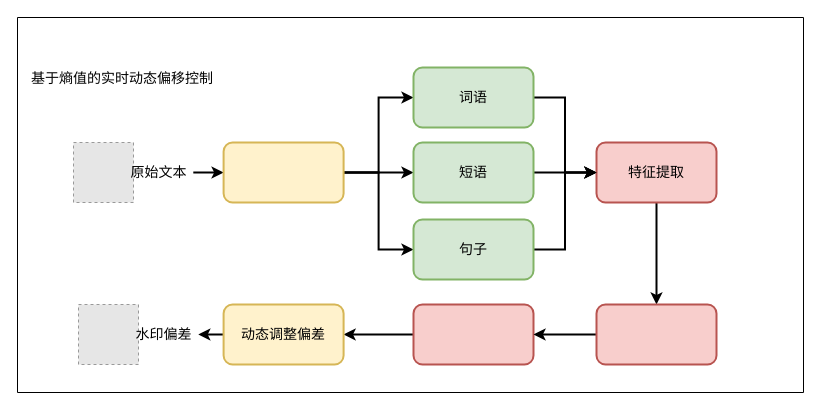
Image size: 821x410. Some labels were removed from this diagram. Grey dashed boxes stand in for pictures. The shapes that lost their labels are listed below. From the top down, each one's box as (x1, y1, x2, y2) in pixels, then its label:
(222, 141, 344, 203): 文本预处理
(412, 303, 534, 365): 熵计算
(595, 303, 717, 365): 概率分布构建
